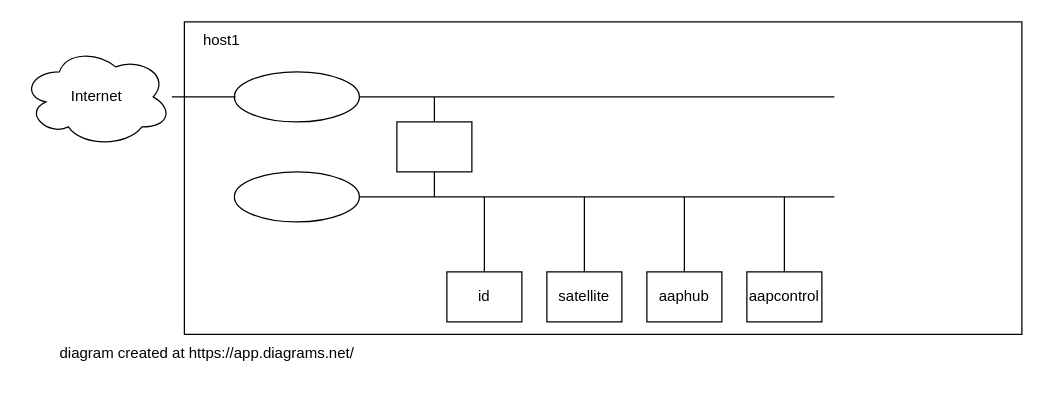
The diagram is 1044 pixels wide and 394 high, and some of its shapes have lost their labels. The box of each missing label's shape, as (x1, y1, x2, y2) in pixels:
gateway: (396, 121, 472, 172)
private network: (233, 171, 359, 222)
public network: (233, 71, 359, 122)
